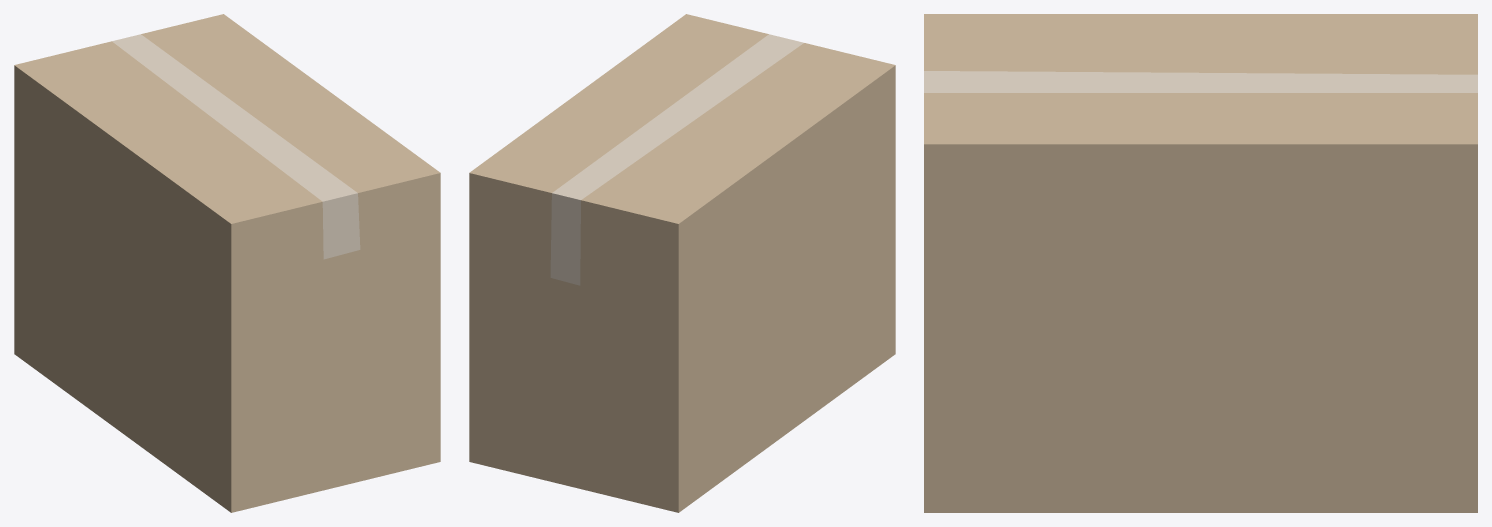
The model's file is stock2.fbx.
3 renders of one model, left to right at view 1: azimuth 30°, elevation 25°; view 2: azimuth 150°, elevation 25°; view 3: azimuth 270°, elevation 25°, orthographic. The views are drawn at different scales.
Visible parts, largest first — view 1: Cube; view 2: Cube; view 3: Cube.
Boxes of the visible parts, left/top/right/bottom form: Cube: left=14, top=14, right=440, bottom=512; Cube: left=469, top=14, right=895, bottom=512; Cube: left=924, top=14, right=1477, bottom=512.
Size of the model in its own units: 33.19 by 43.73 by 59.57.
